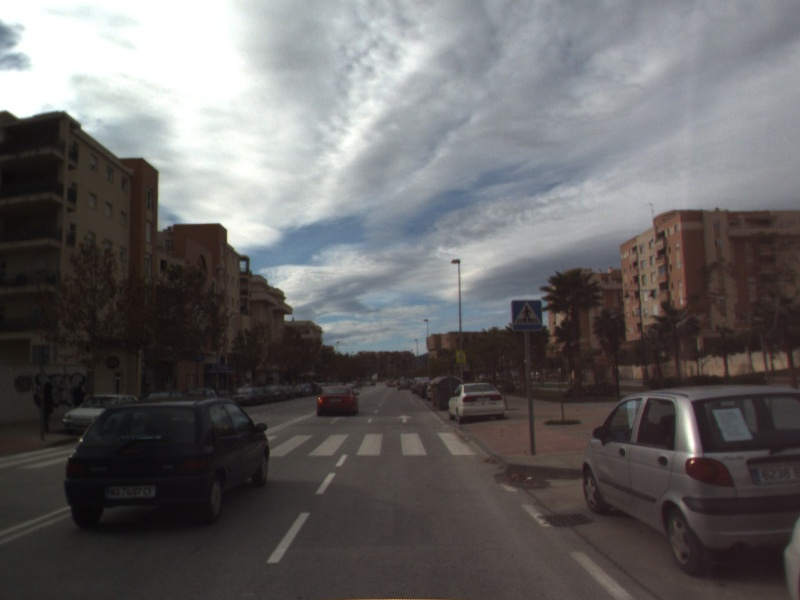STRAIGHT: (395, 413, 414, 425)
